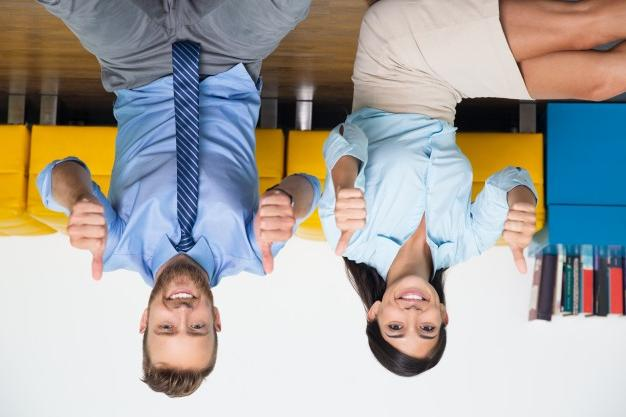thumbsdown: (257, 191, 296, 274), (66, 202, 106, 281), (502, 201, 538, 274), (334, 187, 368, 257)
